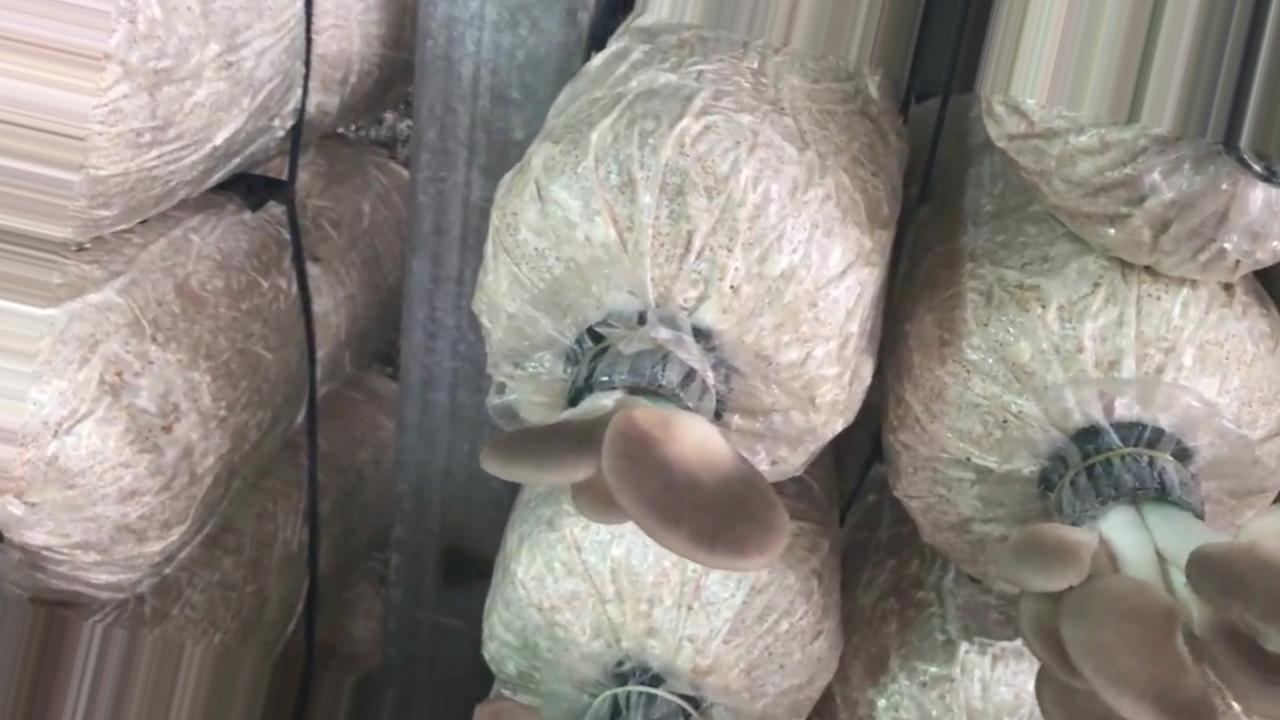nam: (478, 321, 792, 577), (993, 443, 1276, 720)
